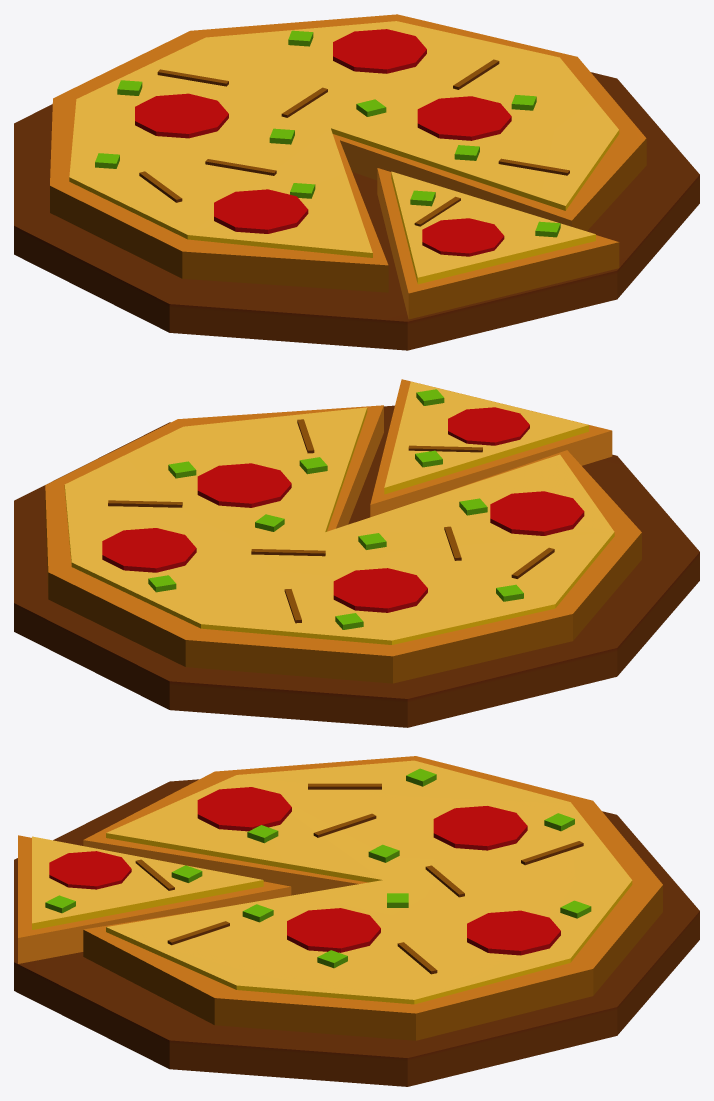
Rendered from Pizza.fbx.
The picture shows the model from 3 angles, top to bottom: view 1: azimuth 30°, elevation 25°; view 2: azimuth 150°, elevation 25°; view 3: azimuth 270°, elevation 25°; orthographic projection.
Parts seen in each view (by area): view 1: Cube.010; view 2: Cube.010; view 3: Cube.010.
Boxes of the visible parts, box(x1,y1,x2,y2) form: Cube.010: box(14, 14, 699, 350); Cube.010: box(14, 379, 699, 727); Cube.010: box(14, 756, 699, 1086).
Size of the model in its own units: 1196 by 126 by 1178.
Materials: 1 (1 with a texture image).
